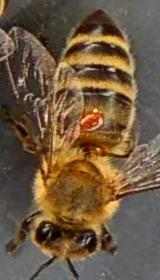varroa_mite: (76, 107, 105, 132)
